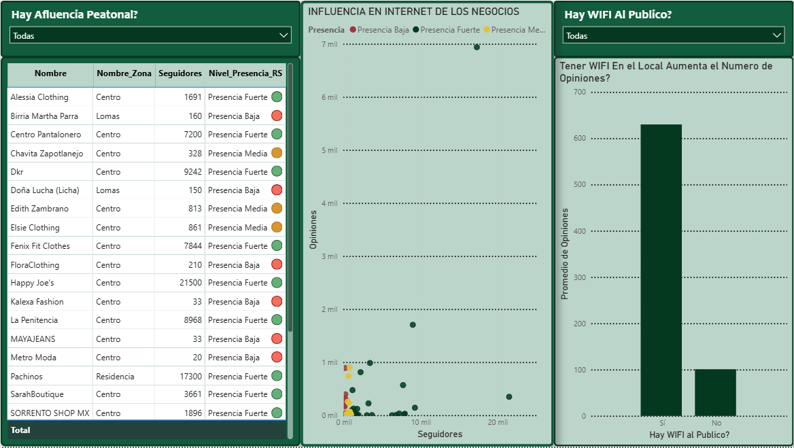

The page's visual inventory and layout, read from the dashboard file:
{"tool":"powerbi","page":{"name":"PEATONES","canvas":[1280,720],"ordinal":3},"visuals":[{"type":"slicer","title":"Holi","fields":{"Values":["Sucursal.Wifi_Texto"]},"box":[893.1,0,387.2,90.9],"z":0},{"type":"clusteredColumnChart","title":"Tener WIFI En el Local Aumenta el Numero de Opiniones?","fields":{"Y":["_Medidas.Promedio_Opiniones"],"Category":["Sucursal.Wifi_Texto"]},"box":[893.1,90.9,387.2,629.1],"z":1000},{"type":"slicer","title":"Holi","fields":{"Values":["Geografia.Afluencia_Peatonal"]},"box":[0,0,484,90.9],"z":2000},{"type":"tableEx","fields":{"Values":["Establecimiento.Nombre","Geografia.Nombre_Zona","Presencia Posicionamiento Digital.Seguidores","Presencia Posicionamiento Digital.Nivel_Presencia_RS"]},"box":[0,90.9,484,629.1],"z":3000},{"type":"scatterChart","title":"INFLUENCIA EN INTERNET DE LOS NEGOCIOS","fields":{"X":["_Medidas.Promedio_Seguidores"],"Y":["_Medidas.Promedio_Opiniones"],"Category":["Establecimiento.Nombre"],"Series":["Presencia Posicionamiento Digital.Nivel_Presencia_RS"]},"box":[484,0,409.2,720.1],"z":4000}]}

Visuals, with their boxes in screenshot pixels (x1, y1, x2, y2), scaled from the page's 1280x720 canvas onto the 794x448 screenshot:
"Holi" slicer: 554, 0, 793, 57
"Tener WIFI En el Local Aumenta el Numero de Opiniones?" clusteredColumnChart: 554, 57, 793, 447
"Holi" slicer: 0, 0, 300, 57
tableEx - Establecimiento.Nombre x Geografia.Nombre_Zona: 0, 57, 300, 447
"INFLUENCIA EN INTERNET DE LOS NEGOCIOS" scatterChart: 300, 0, 554, 447
